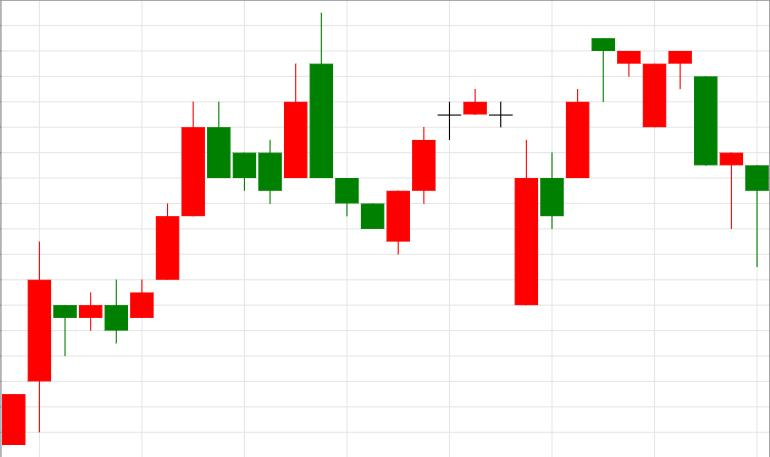bullish_engulfing_rise: (310, 12, 409, 255)
hammer_rise: (592, 39, 769, 268)
